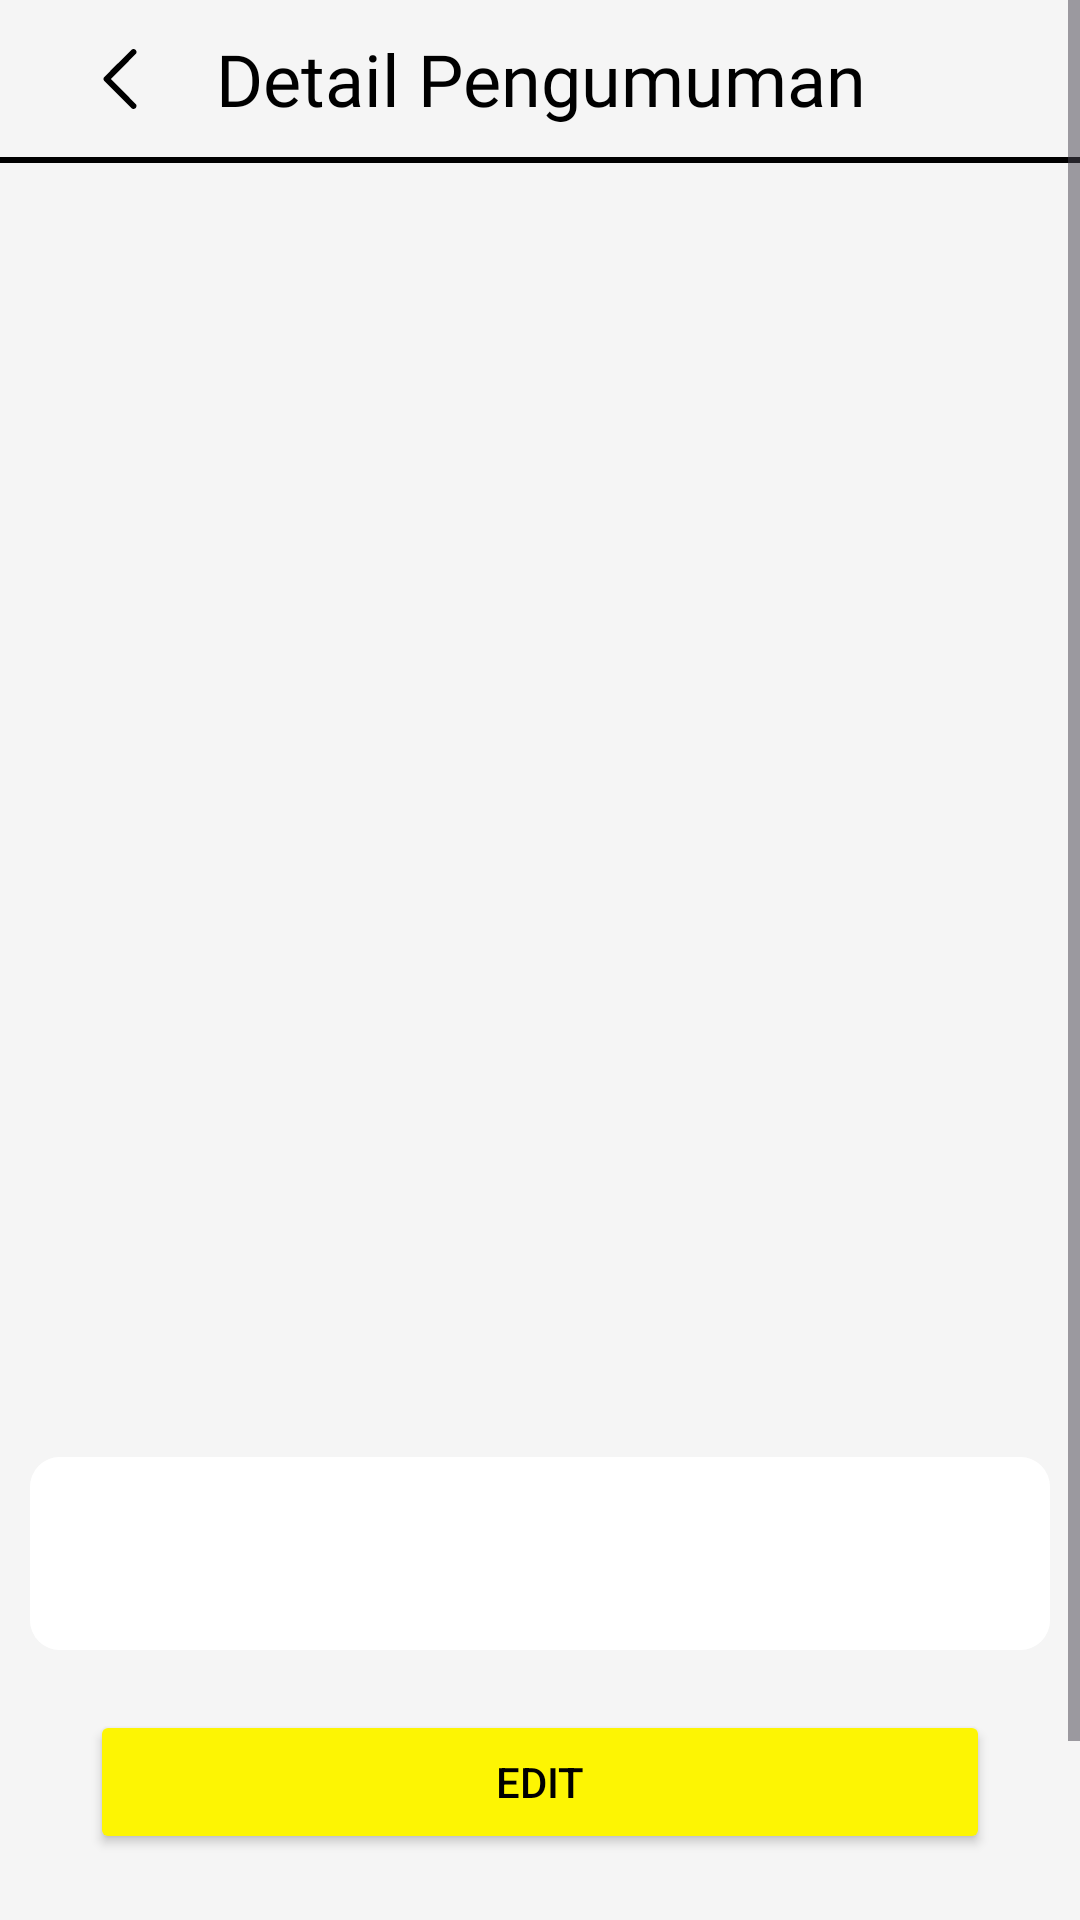

Screen size 1080*1920. Icon name, then its box in pixels as bbox(x1, y1, x2, y2):
back: bbox(103, 49, 137, 109)
